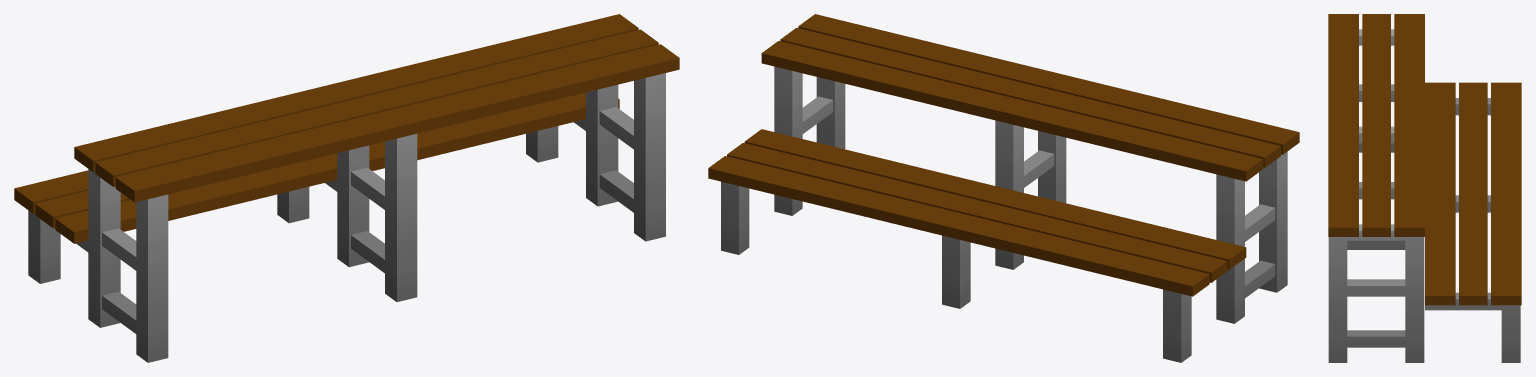
Rendered from Bench_1_D_1.fbx.
3 renders of one model, left to right at view 1: azimuth 30°, elevation 25°; view 2: azimuth 150°, elevation 25°; view 3: azimuth 270°, elevation 25°, orthographic. The views are drawn at different scales.
Parts seen in each view (by area): view 1: Bench_1_D_1; view 2: Bench_1_D_1; view 3: Bench_1_D_1.
Boxes of the visible parts, box(x1,y1,x2,y2) form: Bench_1_D_1: box(14, 14, 679, 362); Bench_1_D_1: box(708, 14, 1299, 362); Bench_1_D_1: box(1328, 14, 1521, 362).
Bounding box in the file's own units: 213 × 65.4 × 81.37.
